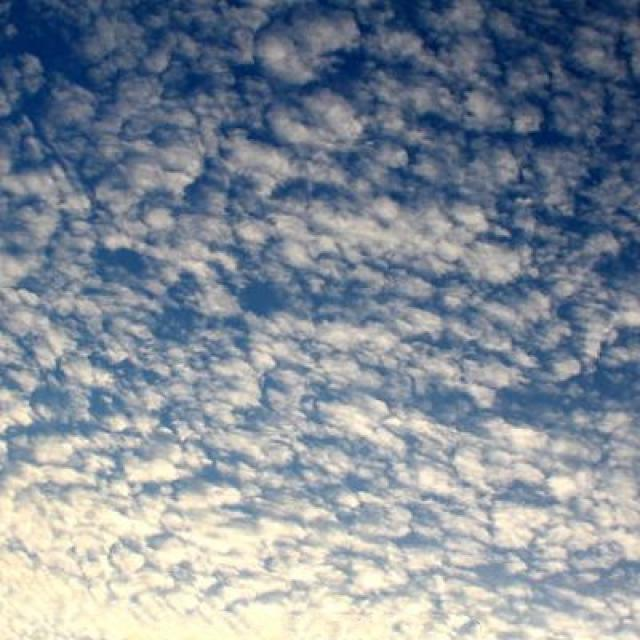Cc: (1, 60, 640, 499)
